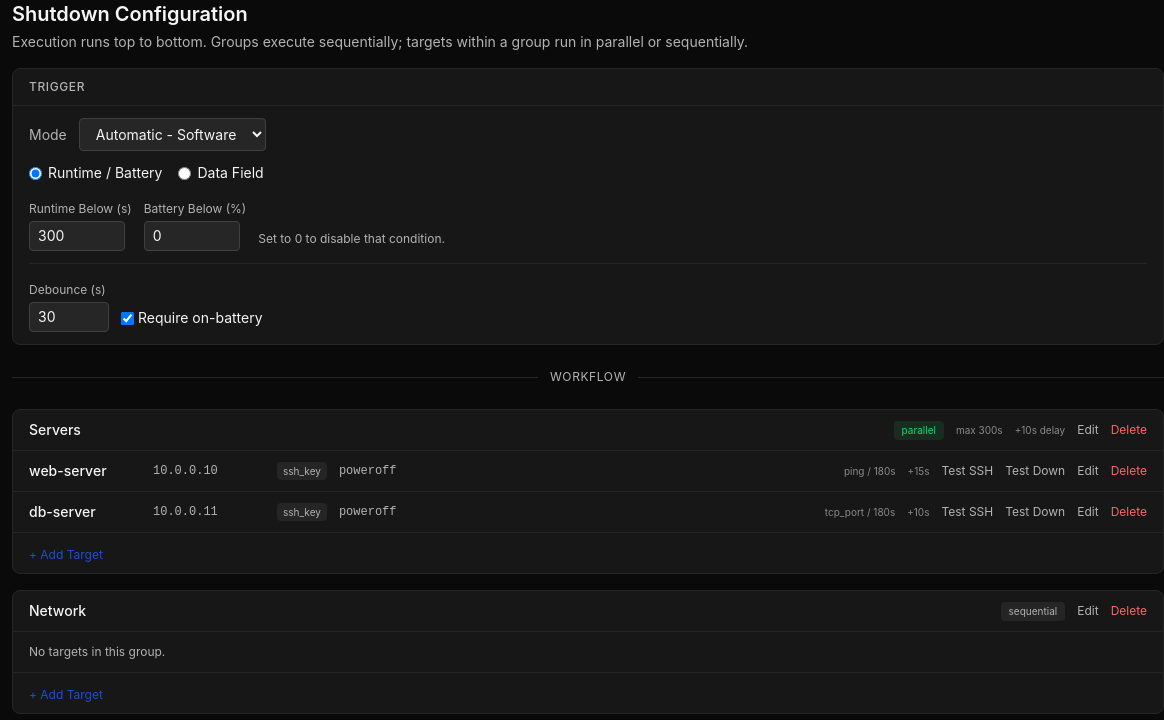
Test: ShutdownConfig — Targets › opens target edit form
Expected: the text "web-server" is shown, [29, 462, 106, 479]
What coordinates should you click on to do the following:
click the button "Edit" in the row of "15"
I would click on:
 (1088, 471)
Its box is [1077, 463, 1099, 479].
(page scrolled)
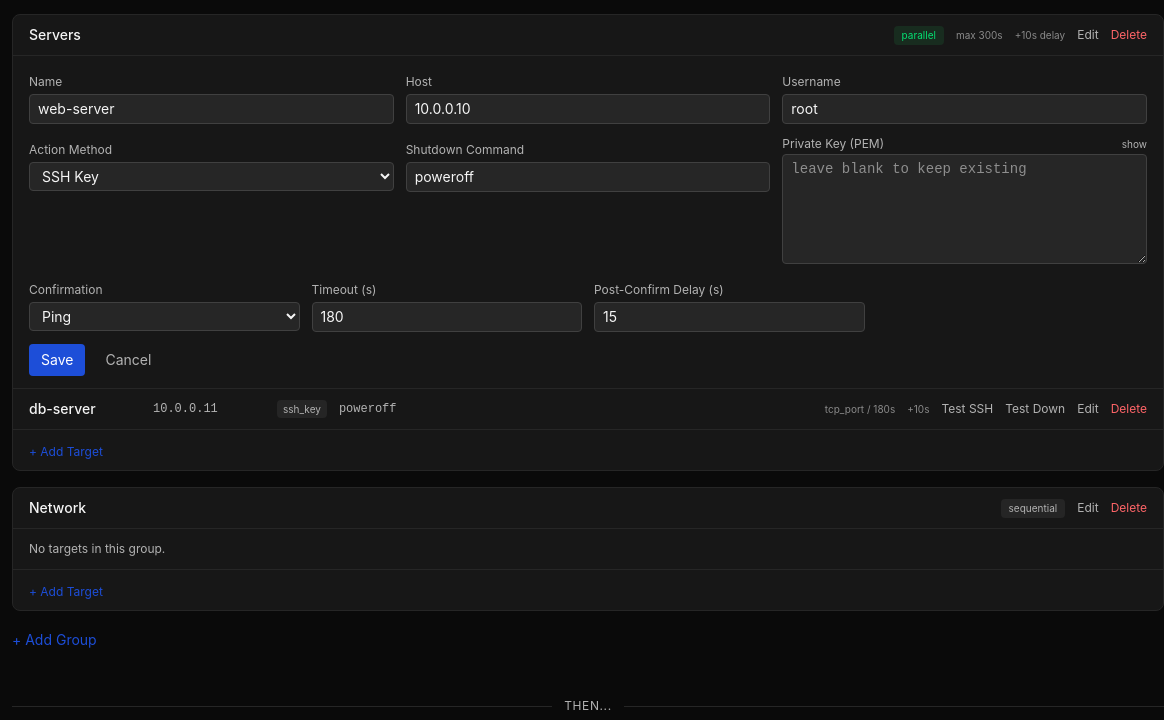
Expected: the button "Save" is shown, [29, 344, 85, 376]
